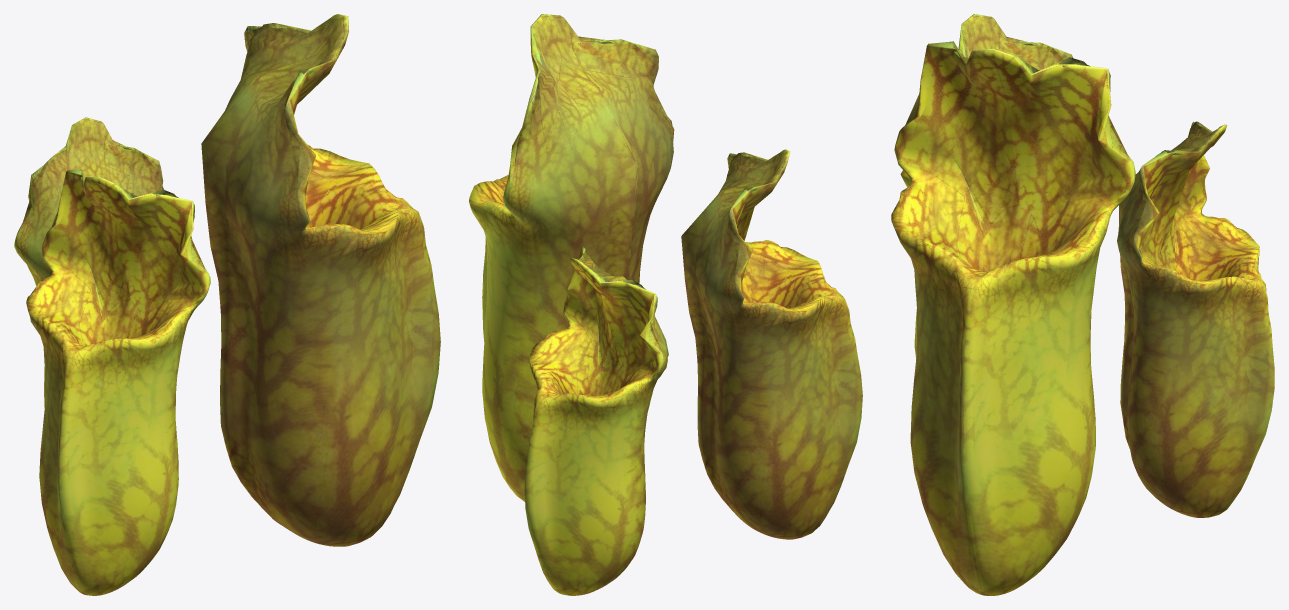
Rendered from pitcherplant.glb.
3 renders of one model, left to right at view 1: azimuth 30°, elevation 25°; view 2: azimuth 150°, elevation 25°; view 3: azimuth 270°, elevation 25°, orthographic. The views are drawn at different scales.
Visible parts, largest first — view 1: Sphere, Sphere.002, Sphere.001; view 2: Sphere, Sphere.002, Sphere.001; view 3: Sphere, Sphere.001, Sphere.002.
Boxes of the visible parts, bbox=[...] form: Sphere: bbox=[201, 14, 440, 546]; Sphere.002: bbox=[26, 169, 210, 595]; Sphere.001: bbox=[14, 117, 164, 407]; Sphere: bbox=[469, 14, 674, 501]; Sphere.002: bbox=[681, 149, 862, 539]; Sphere.001: bbox=[524, 247, 668, 595]; Sphere: bbox=[891, 41, 1135, 595]; Sphere.001: bbox=[1117, 121, 1274, 517]; Sphere.002: bbox=[900, 14, 1072, 359].
Size of the model in its own units: 1.22 by 1.55 by 0.9928.
3 materials, 3 textured.
